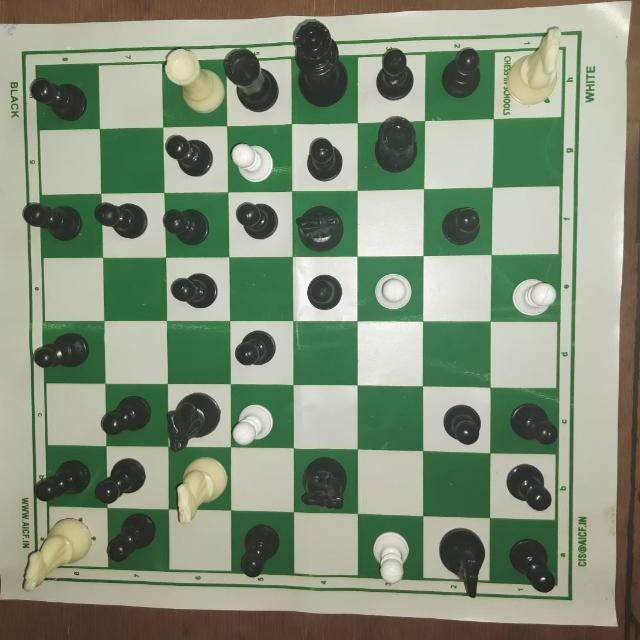black-knight: (433, 526, 487, 601), (162, 392, 222, 454), (296, 453, 352, 513), (293, 197, 345, 255)
black-pawn: (21, 197, 87, 253), (25, 69, 95, 120), (92, 193, 152, 248), (501, 458, 556, 517), (503, 536, 555, 596), (30, 328, 94, 375), (103, 511, 160, 563), (165, 132, 225, 181), (299, 128, 347, 189), (31, 456, 89, 506), (92, 454, 150, 504), (500, 397, 557, 447), (238, 521, 284, 582), (98, 392, 156, 439), (435, 48, 483, 104), (372, 48, 416, 108), (232, 199, 286, 247), (437, 197, 484, 248), (161, 198, 213, 244), (233, 323, 278, 375), (438, 400, 486, 448), (166, 267, 216, 310), (302, 272, 342, 311)
black-queen: (288, 22, 350, 114)
black-rook: (225, 44, 282, 120), (370, 111, 422, 180)
white-knight: (16, 511, 92, 591), (497, 27, 564, 115), (170, 453, 228, 527)
white-pawn: (362, 521, 416, 587), (501, 270, 562, 322), (229, 396, 281, 454), (362, 267, 416, 315), (228, 137, 278, 185)
white-rook: (158, 45, 229, 116)
